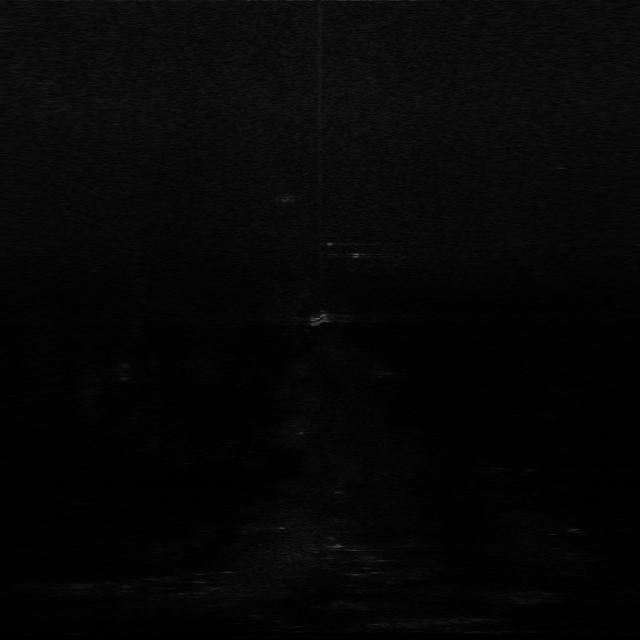rov: (303, 313, 341, 332)
